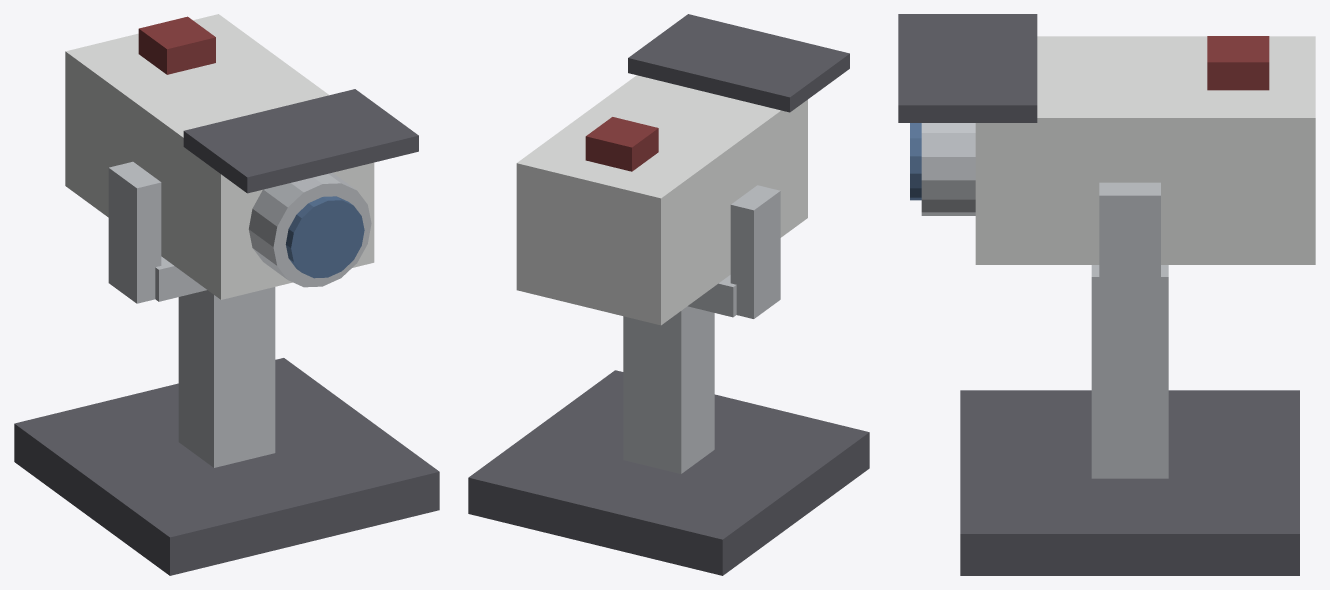
File: camera_full.gltf
3 renders of one model, left to right at view 1: azimuth 30°, elevation 25°; view 2: azimuth 150°, elevation 25°; view 3: azimuth 270°, elevation 25°, orthographic. The views are drawn at different scales.
Parts seen in each view (by area): view 1: camera_full; view 2: camera_full; view 3: camera_full.
Part boxes in pixels (x1,y1,x2,y2): camera_full: [14, 14, 439, 575]; camera_full: [468, 14, 869, 575]; camera_full: [898, 14, 1315, 575].
Bounding box in the file's own units: 0.44 × 0.65 × 0.54.
